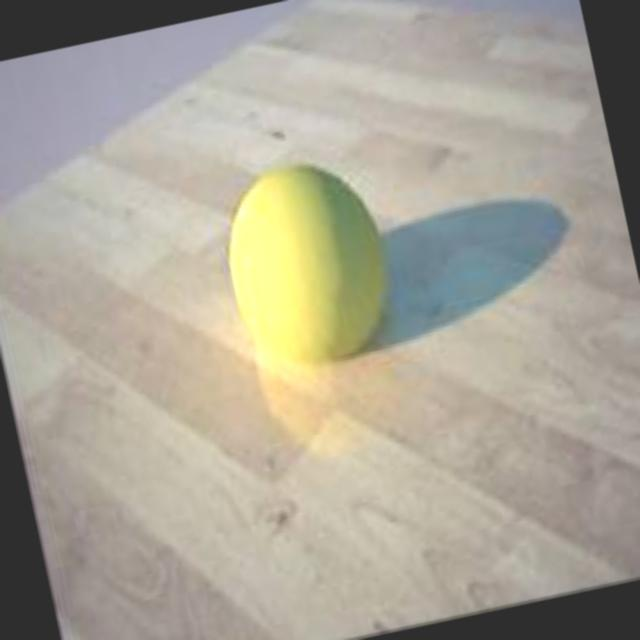Tennis Ball: (226, 164, 392, 367)
